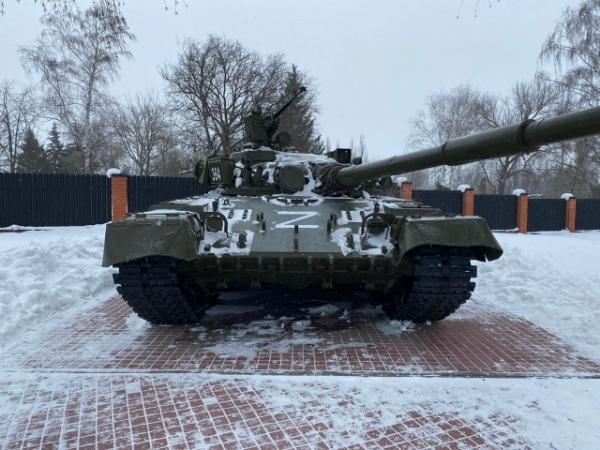tank: (96, 110, 554, 332)
